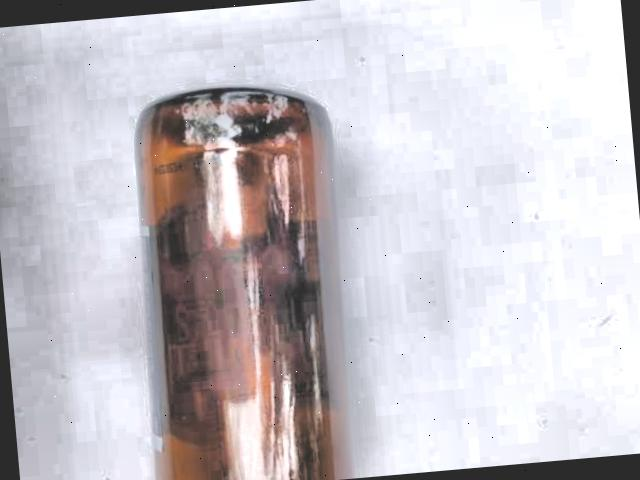Bottles: (86, 42, 383, 480)
